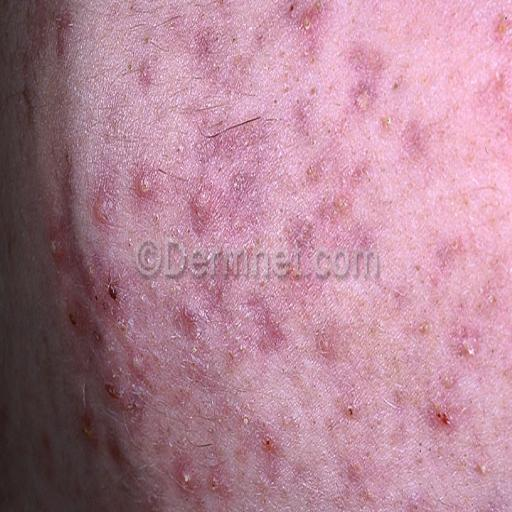Skin_Lesion: (76, 390, 136, 471), (197, 120, 263, 181), (259, 236, 331, 277), (44, 1, 78, 72), (448, 305, 484, 366), (282, 0, 334, 39), (302, 326, 348, 370), (87, 184, 127, 234), (173, 456, 219, 497), (100, 255, 125, 319), (326, 186, 364, 228), (397, 109, 429, 156), (129, 41, 158, 90), (186, 180, 214, 230), (484, 75, 512, 121), (427, 390, 457, 432), (349, 68, 375, 116), (438, 228, 468, 266), (178, 302, 205, 343), (16, 83, 39, 130), (257, 421, 284, 460), (344, 442, 371, 481), (489, 0, 511, 47), (402, 482, 438, 510), (46, 230, 74, 266), (473, 482, 508, 510), (341, 386, 361, 424), (104, 0, 136, 20), (140, 168, 158, 202), (472, 449, 492, 479), (208, 0, 236, 18)
